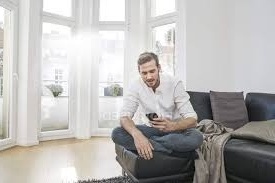not_fallen: (110, 46, 205, 155)
